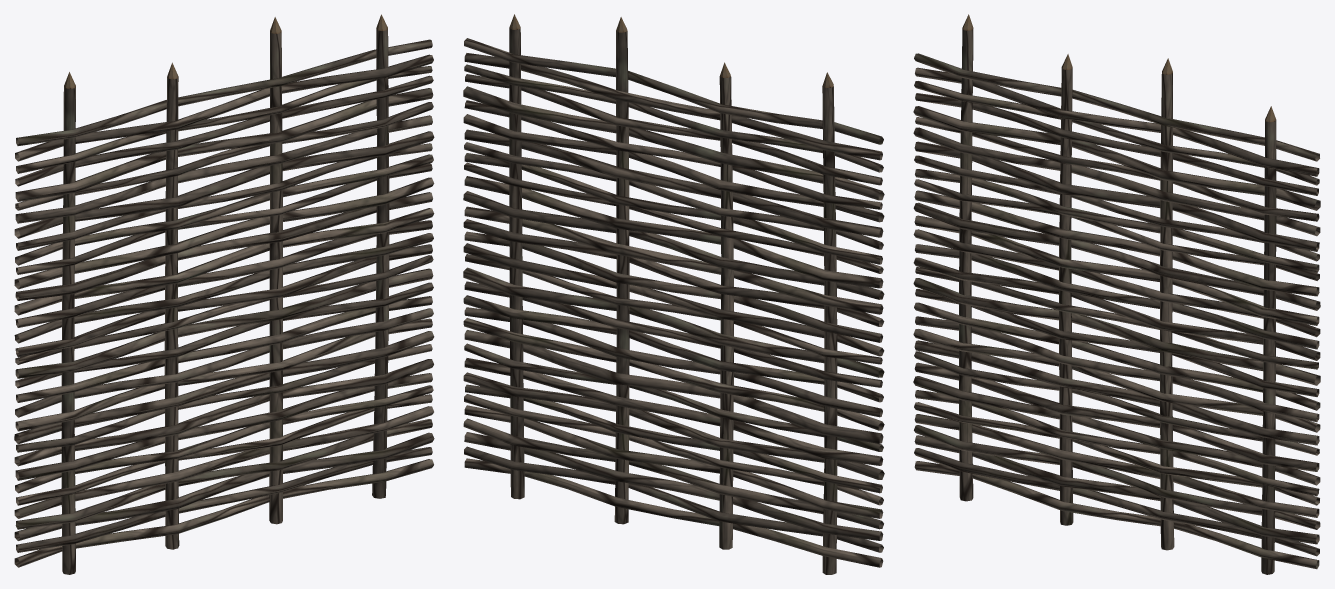
Rendered from S7U_Rev_Wattle_2m.fbx.
The picture shows the model from 3 angles, left to right: view 1: azimuth 30°, elevation 25°; view 2: azimuth 150°, elevation 25°; view 3: azimuth 330°, elevation 25°; orthographic projection. The views are drawn at different scales.
Parts seen in each view (by area): view 1: S7U_Rev_Wattle_2m; view 2: S7U_Rev_Wattle_2m; view 3: S7U_Rev_Wattle_2m.
Part boxes in pixels (x1,y1,x2,y2): S7U_Rev_Wattle_2m: (14, 14, 434, 574); S7U_Rev_Wattle_2m: (463, 14, 884, 574); S7U_Rev_Wattle_2m: (913, 14, 1320, 574).
Size of the model in its own units: 2.01 by 2.33 by 0.1143.
